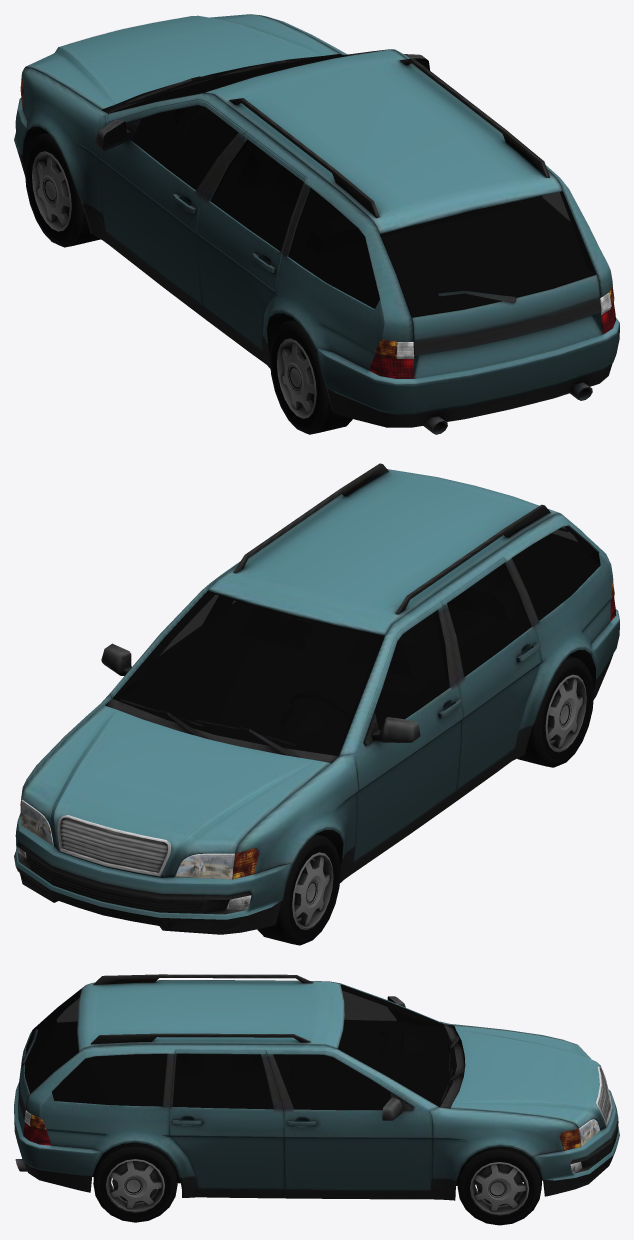
Rendered from c_wagon.glb.
3 views of the same model, one above another, from view 1: azimuth 30°, elevation 25°; view 2: azimuth 150°, elevation 25°; view 3: azimuth 270°, elevation 25° (orthographic). The views are drawn at different scales.
Parts seen in each view (by area): view 1: body|Body_8, body|glass, body|Wheel_7, body|Optics_8; view 2: body|Body_8, body|glass, body|Wheel_7, body|Optics_8; view 3: body|Body_8, body|glass, body|Wheel_7, body|Optics_8.
Part boxes in pixels (x1,y1,x2,y2): body|Body_8: [14, 14, 619, 434]; body|glass: [109, 49, 596, 317]; body|Wheel_7: [25, 133, 352, 434]; body|Optics_8: [20, 75, 615, 378]; body|Body_8: [14, 463, 619, 934]; body|glass: [112, 526, 600, 756]; body|Wheel_7: [257, 656, 593, 945]; body|Optics_8: [16, 581, 616, 910]; body|Body_8: [14, 974, 619, 1200]; body|glass: [24, 984, 456, 1110]; body|Wheel_7: [93, 1142, 542, 1225]; body|Optics_8: [23, 1110, 600, 1173].
Bounding box in the file's own units: 1.95 × 1.38 × 4.38.
Materials: 4 (3 with a texture image).
